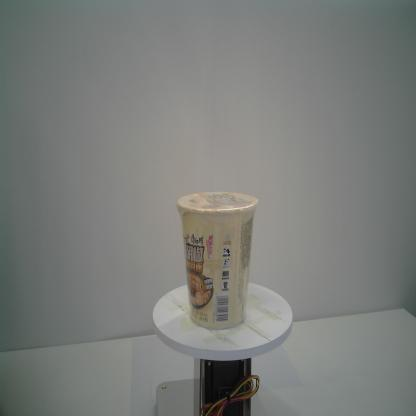Instant Noodles: (174, 190, 258, 332)
